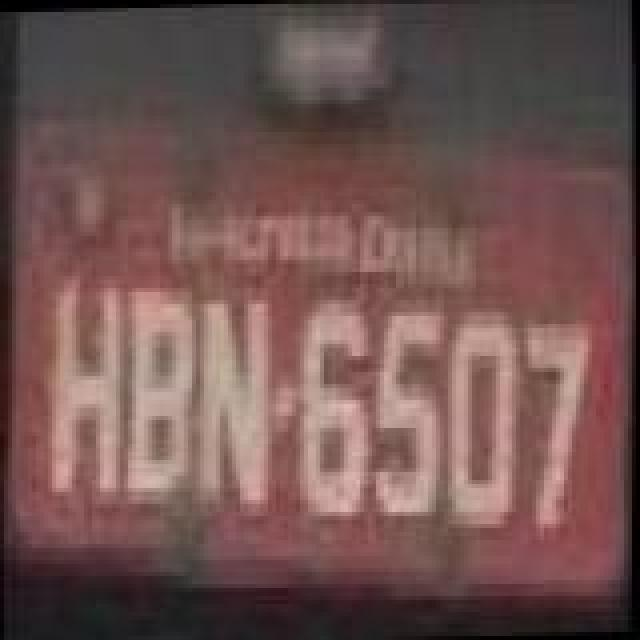5: (364, 298, 452, 526)
6: (288, 290, 384, 526)
7: (516, 310, 604, 538)
B: (116, 286, 200, 494)
H: (40, 276, 132, 492)
N: (186, 296, 274, 512)
O: (440, 304, 528, 532)
